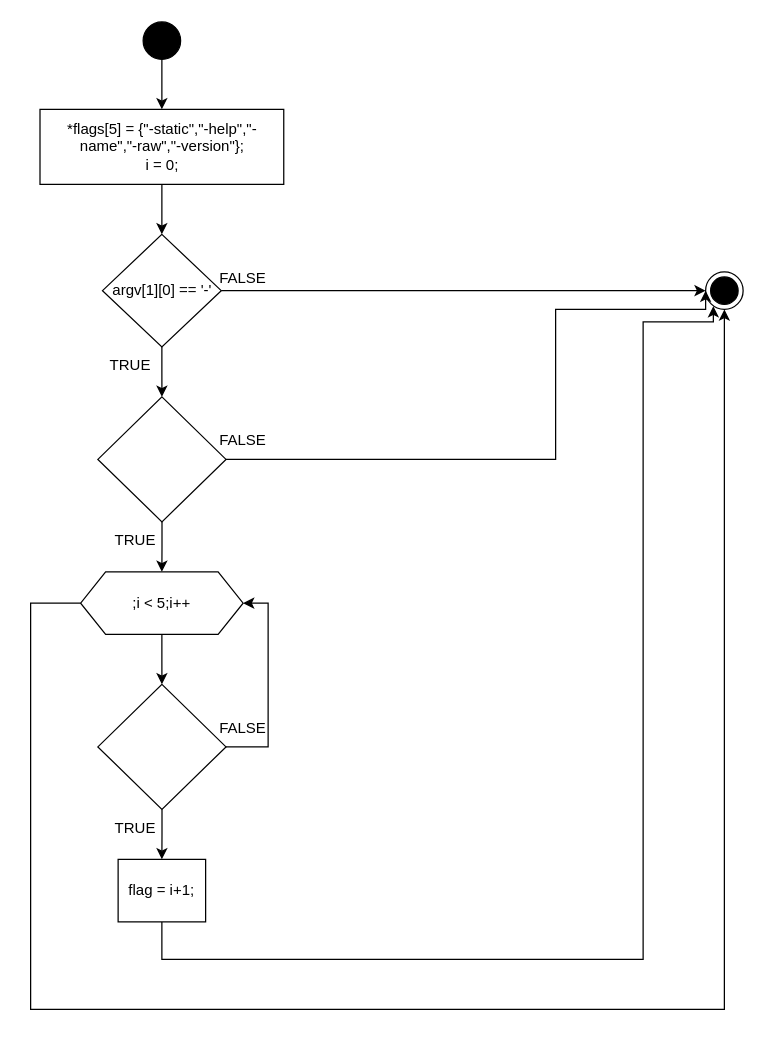
This 765x1041 diagram has some shape labels left out. The centre of each missing label's shape, as x and y in pixels:
argv[1][1] >= 'h' && argv[1][1] <= 'v': the point at 161,459
comparisons (flags[i],argv[1]): the point at 161,746
